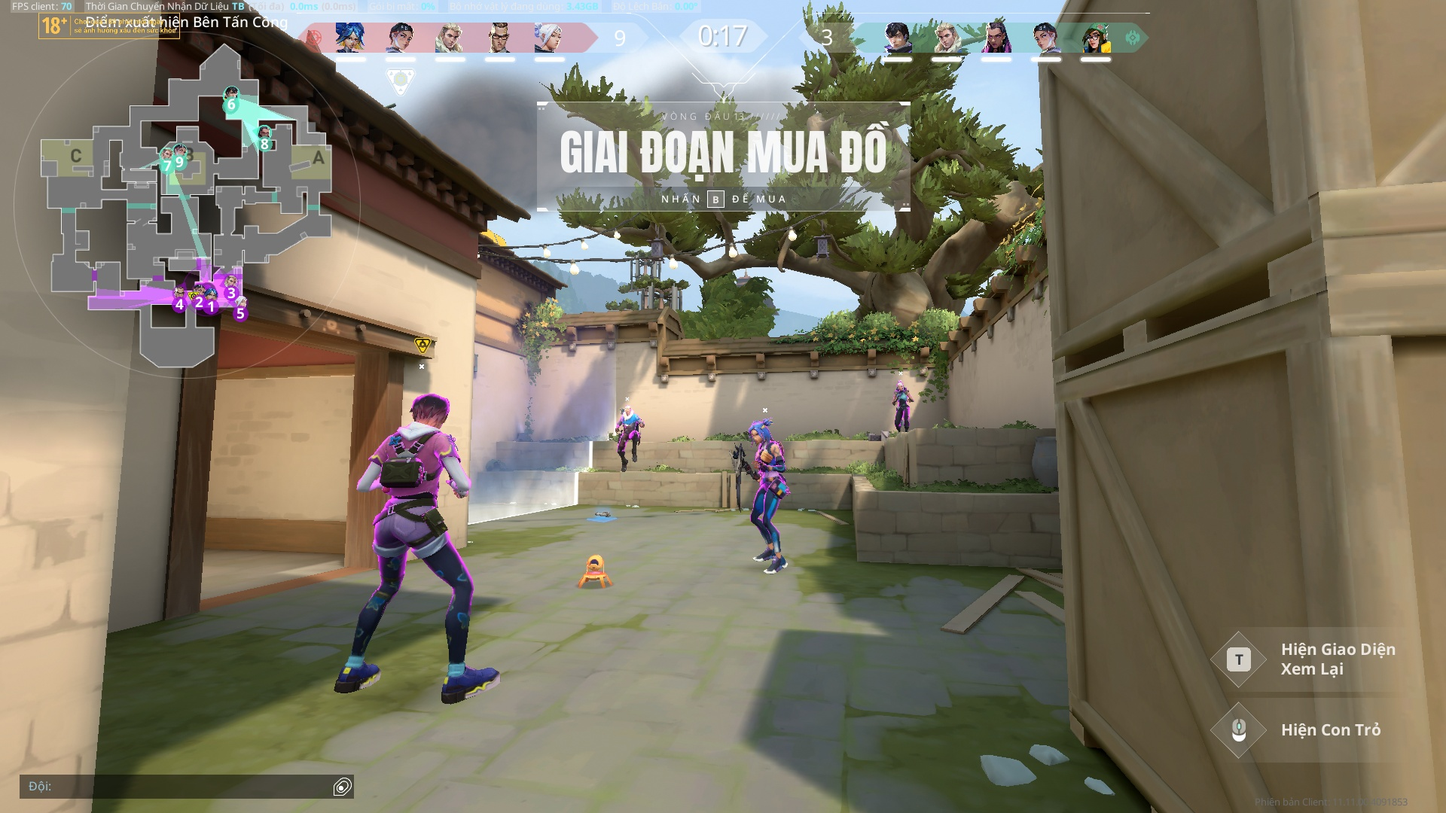body: (376, 423, 456, 504), (754, 444, 788, 477), (617, 415, 642, 432), (895, 387, 911, 404)
head: (408, 389, 447, 425), (743, 420, 770, 444), (624, 404, 633, 416), (895, 382, 903, 389)
